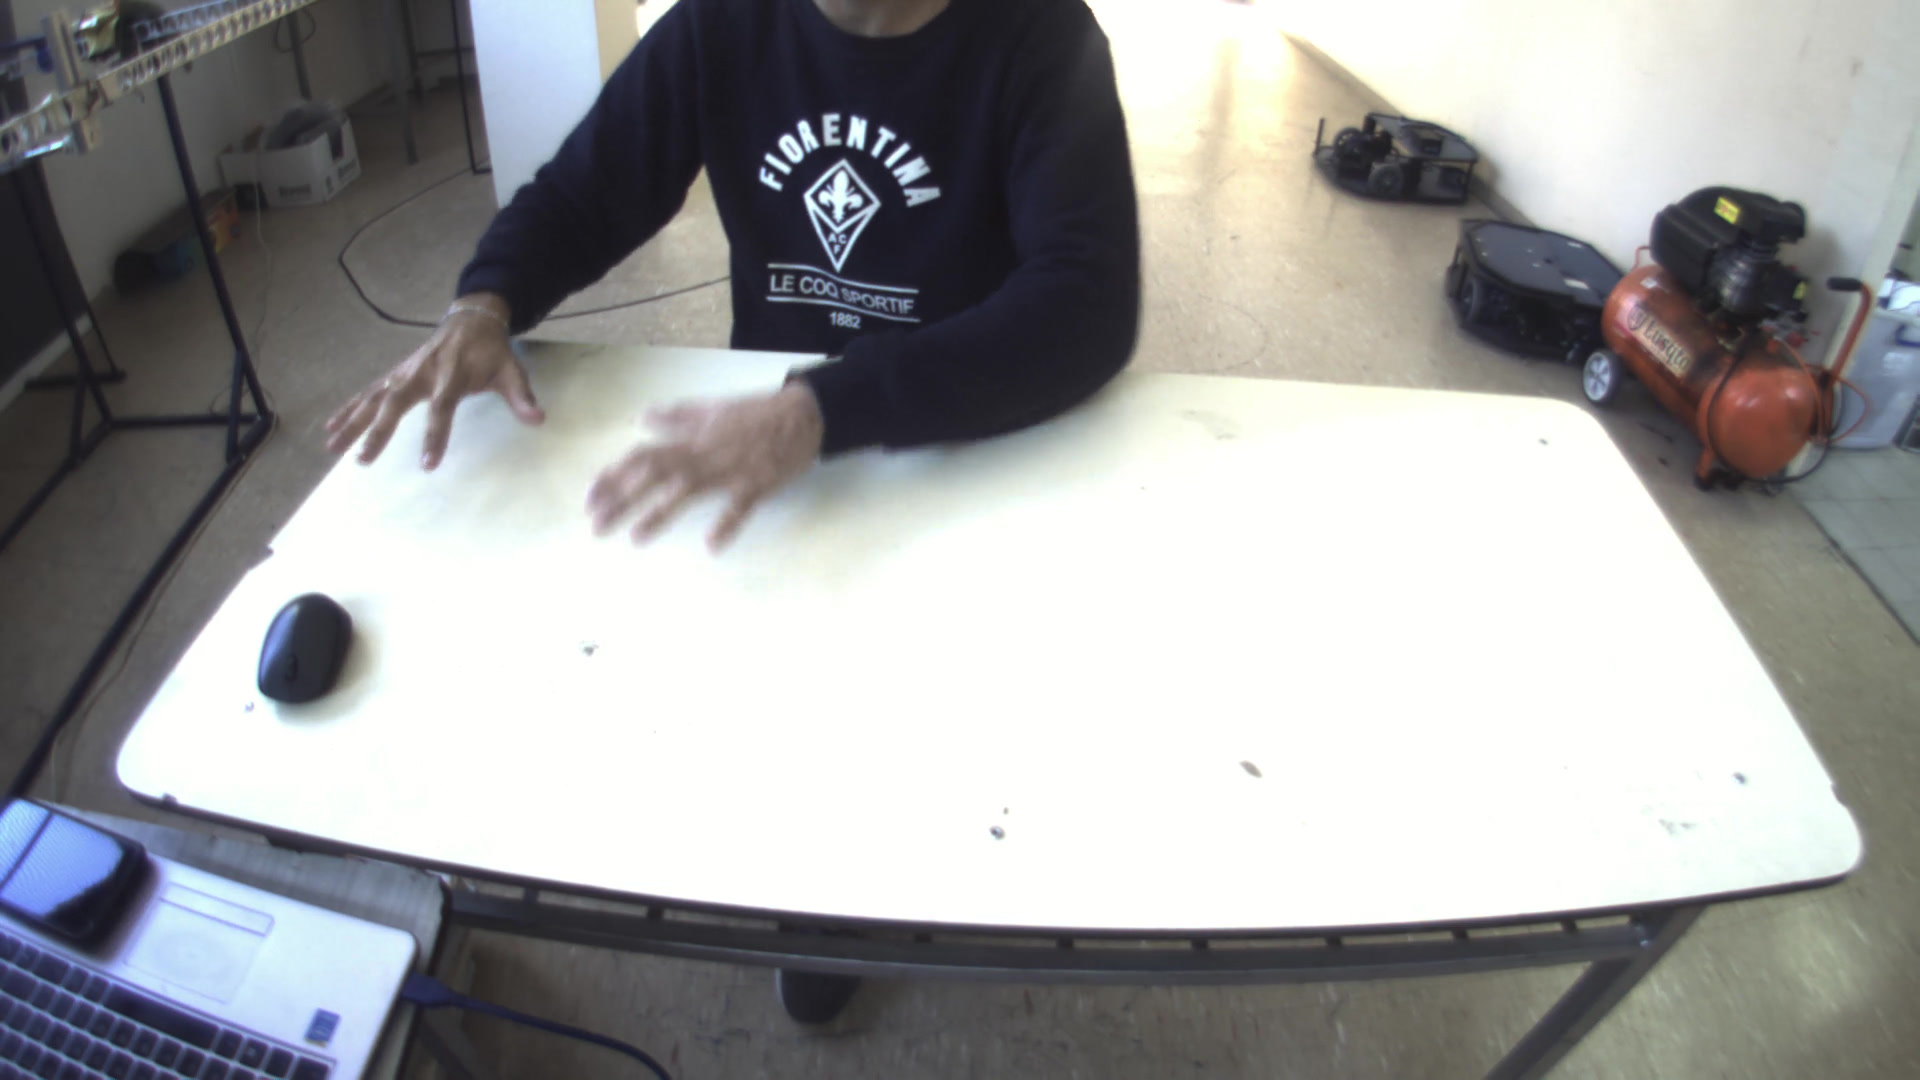hand: (566, 371, 823, 558), (305, 290, 538, 477)
